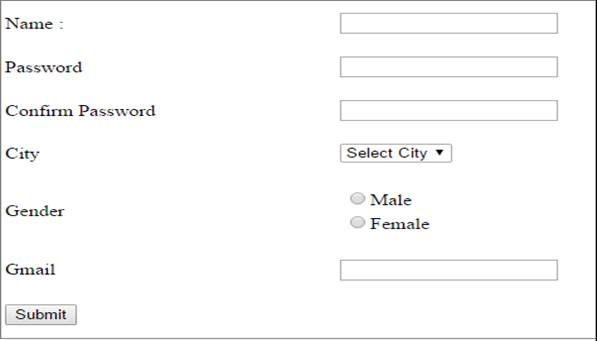button: (2, 301, 84, 328)
dropdown: (324, 136, 465, 173)
radiobutton: (343, 214, 437, 238), (347, 185, 415, 214)
textbox: (328, 252, 566, 291)
